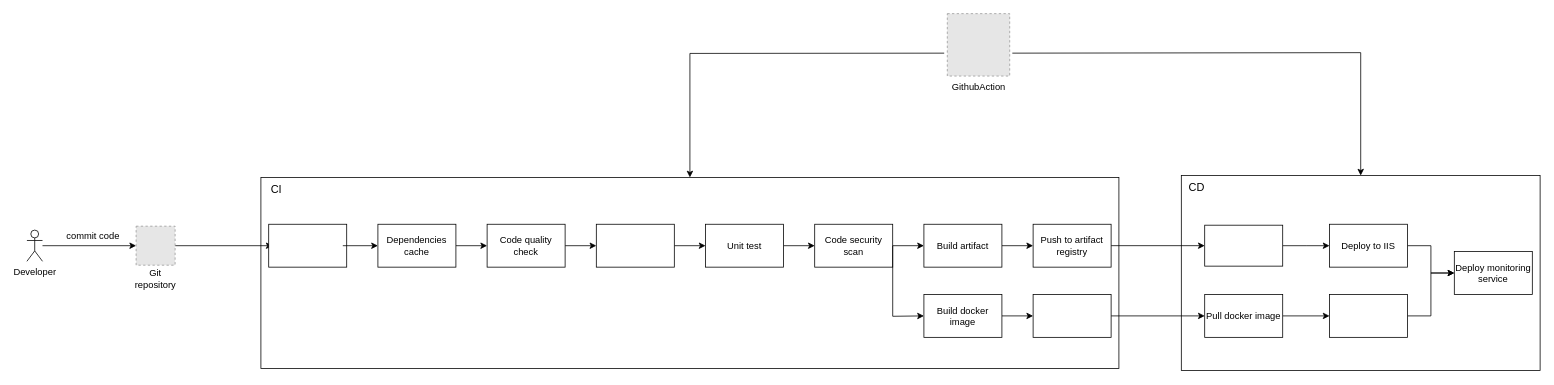
Image size: 1554x385. Some labels were removed from this diagram. Grey dashed boxes stand in for pictures. Here are the shapes that lost their labels. From the top down, the box of each, then its label:
(268, 223, 347, 267): checkout code
(596, 223, 674, 267): Package vulnerabilities check
(1204, 224, 1283, 266): Dowload Artifact
(1032, 294, 1111, 337): Push to docket registry
(1329, 294, 1408, 337): Deploy to docker container
